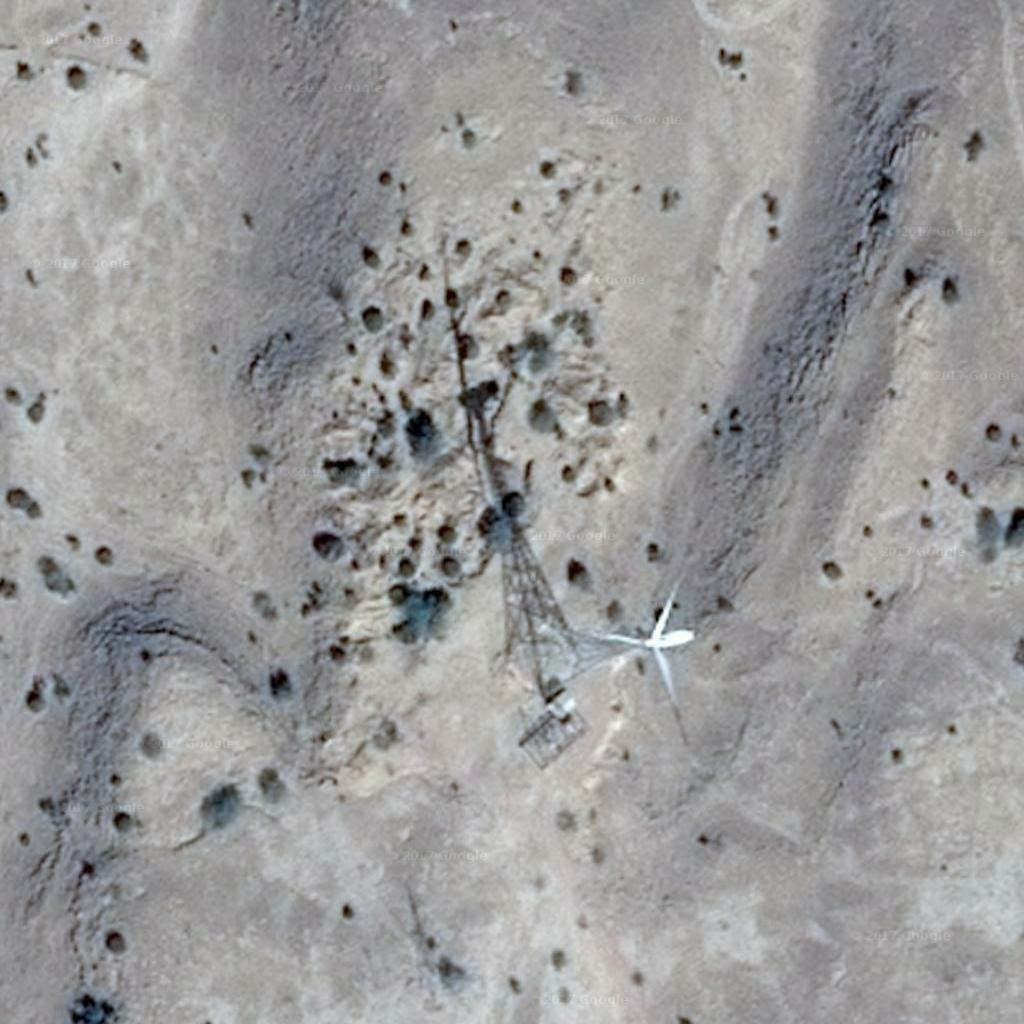Windmill: (435, 283, 589, 646)
